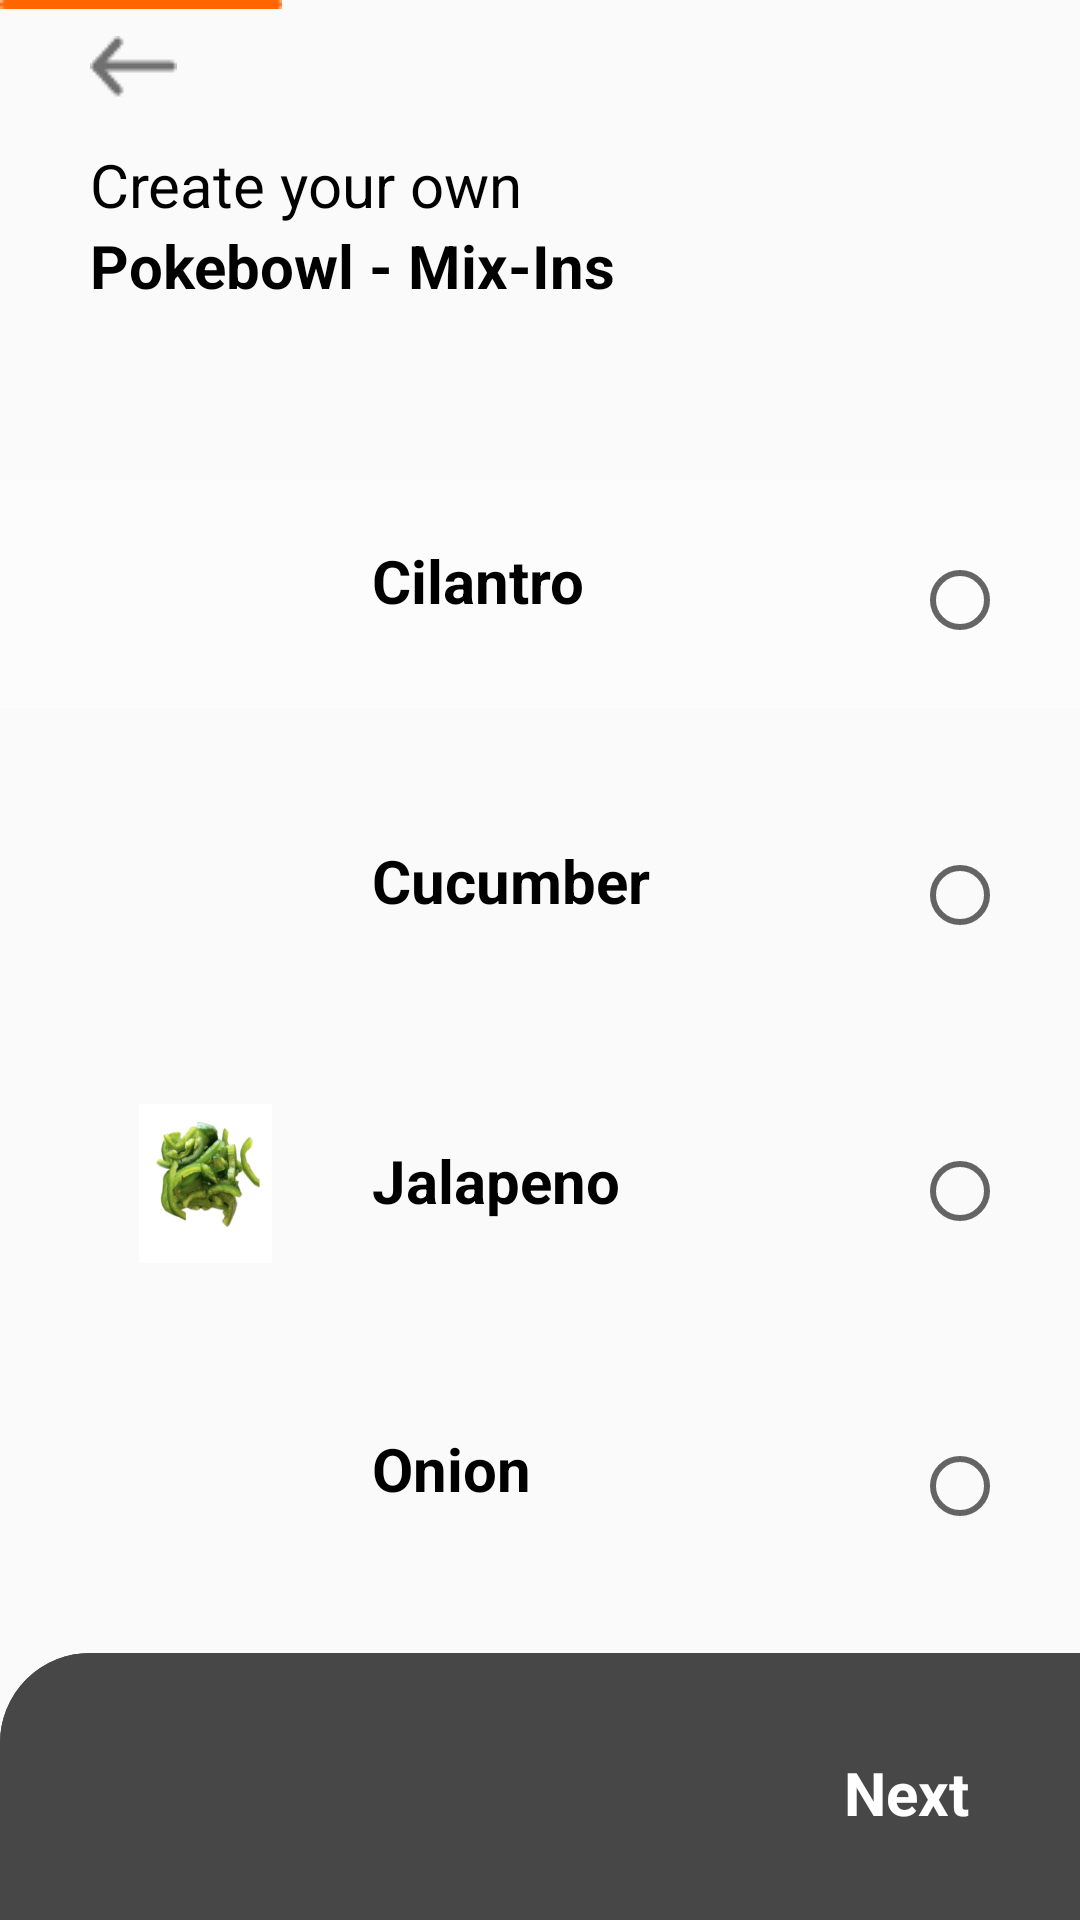

Icon click points for this 1080px×1920px phone screenshot, format [x,y]:
Arrow: [133,66]
